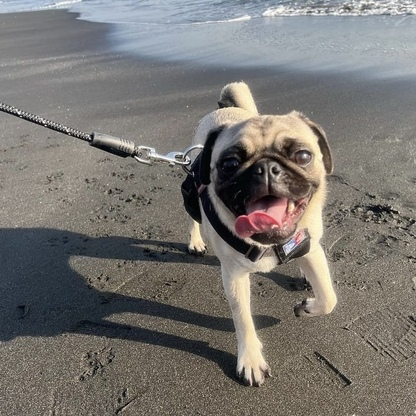Pug: (176, 75, 345, 390)
